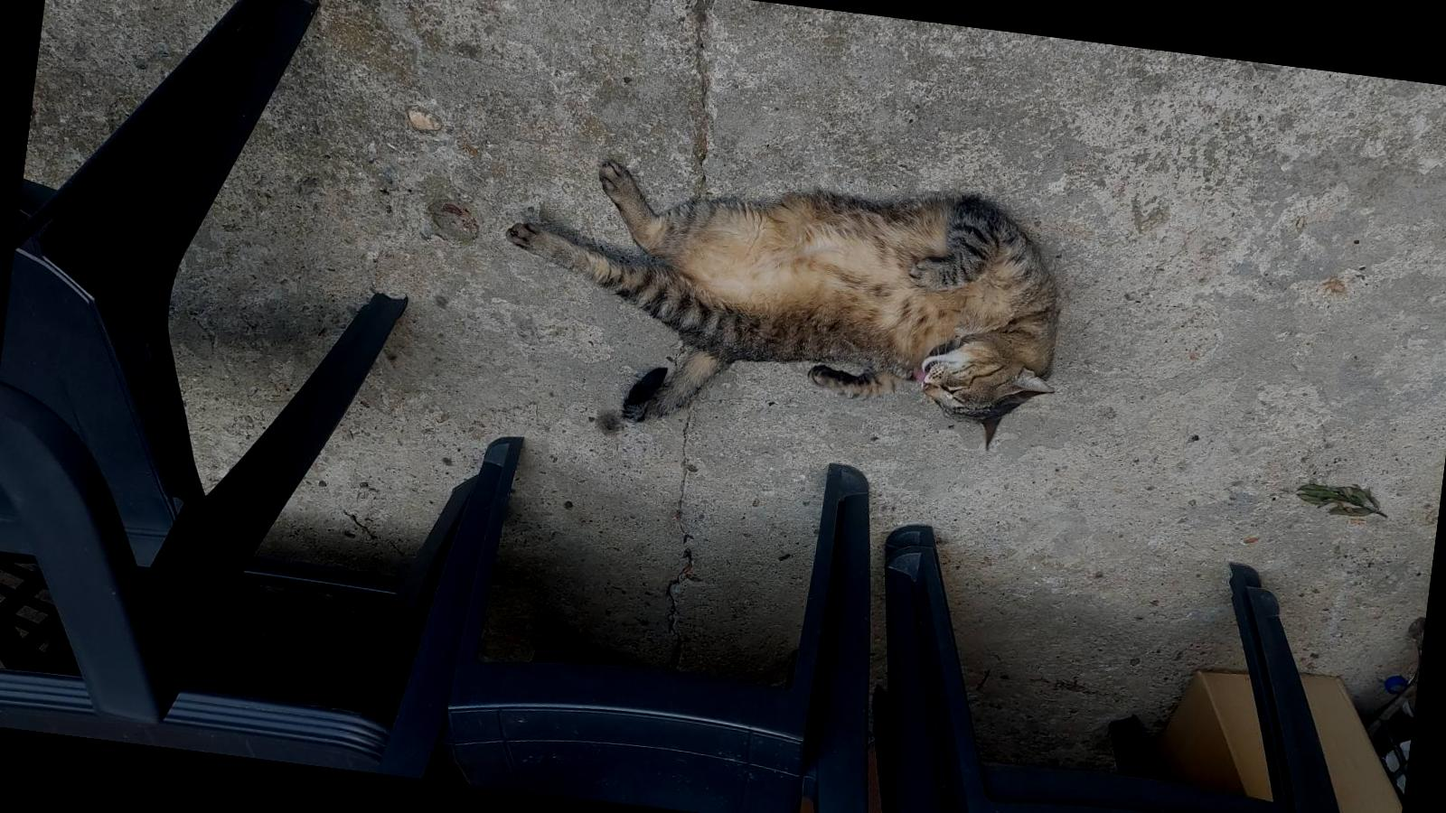macka: (483, 140, 1074, 476)
